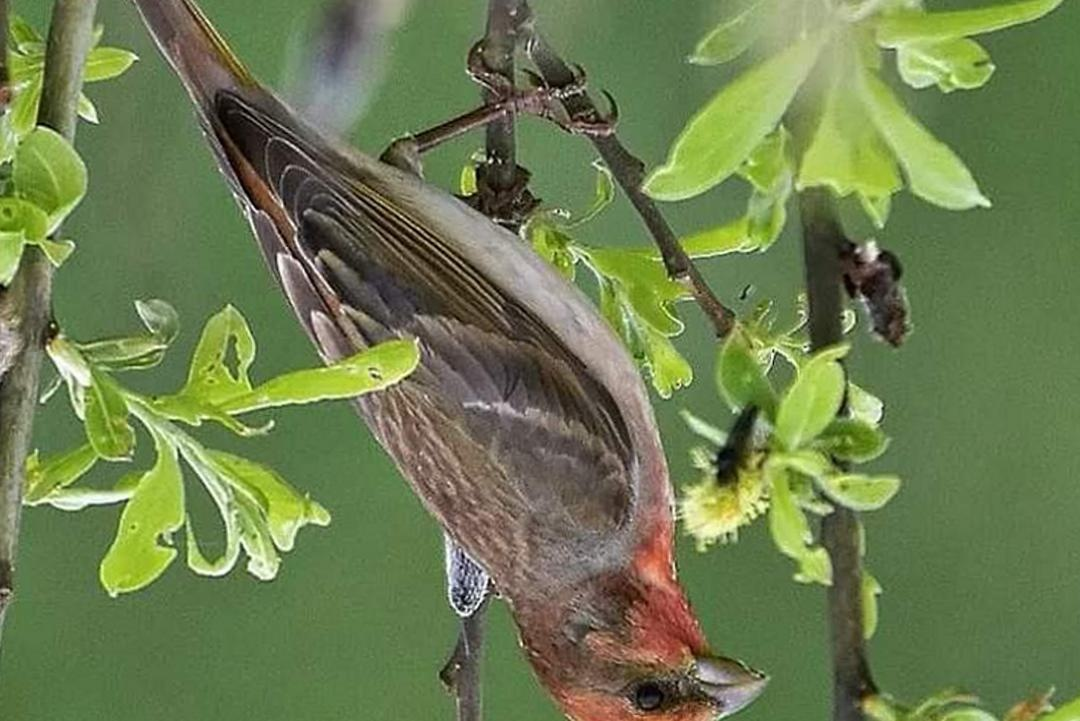rosefinch: (311, 109, 789, 716)
